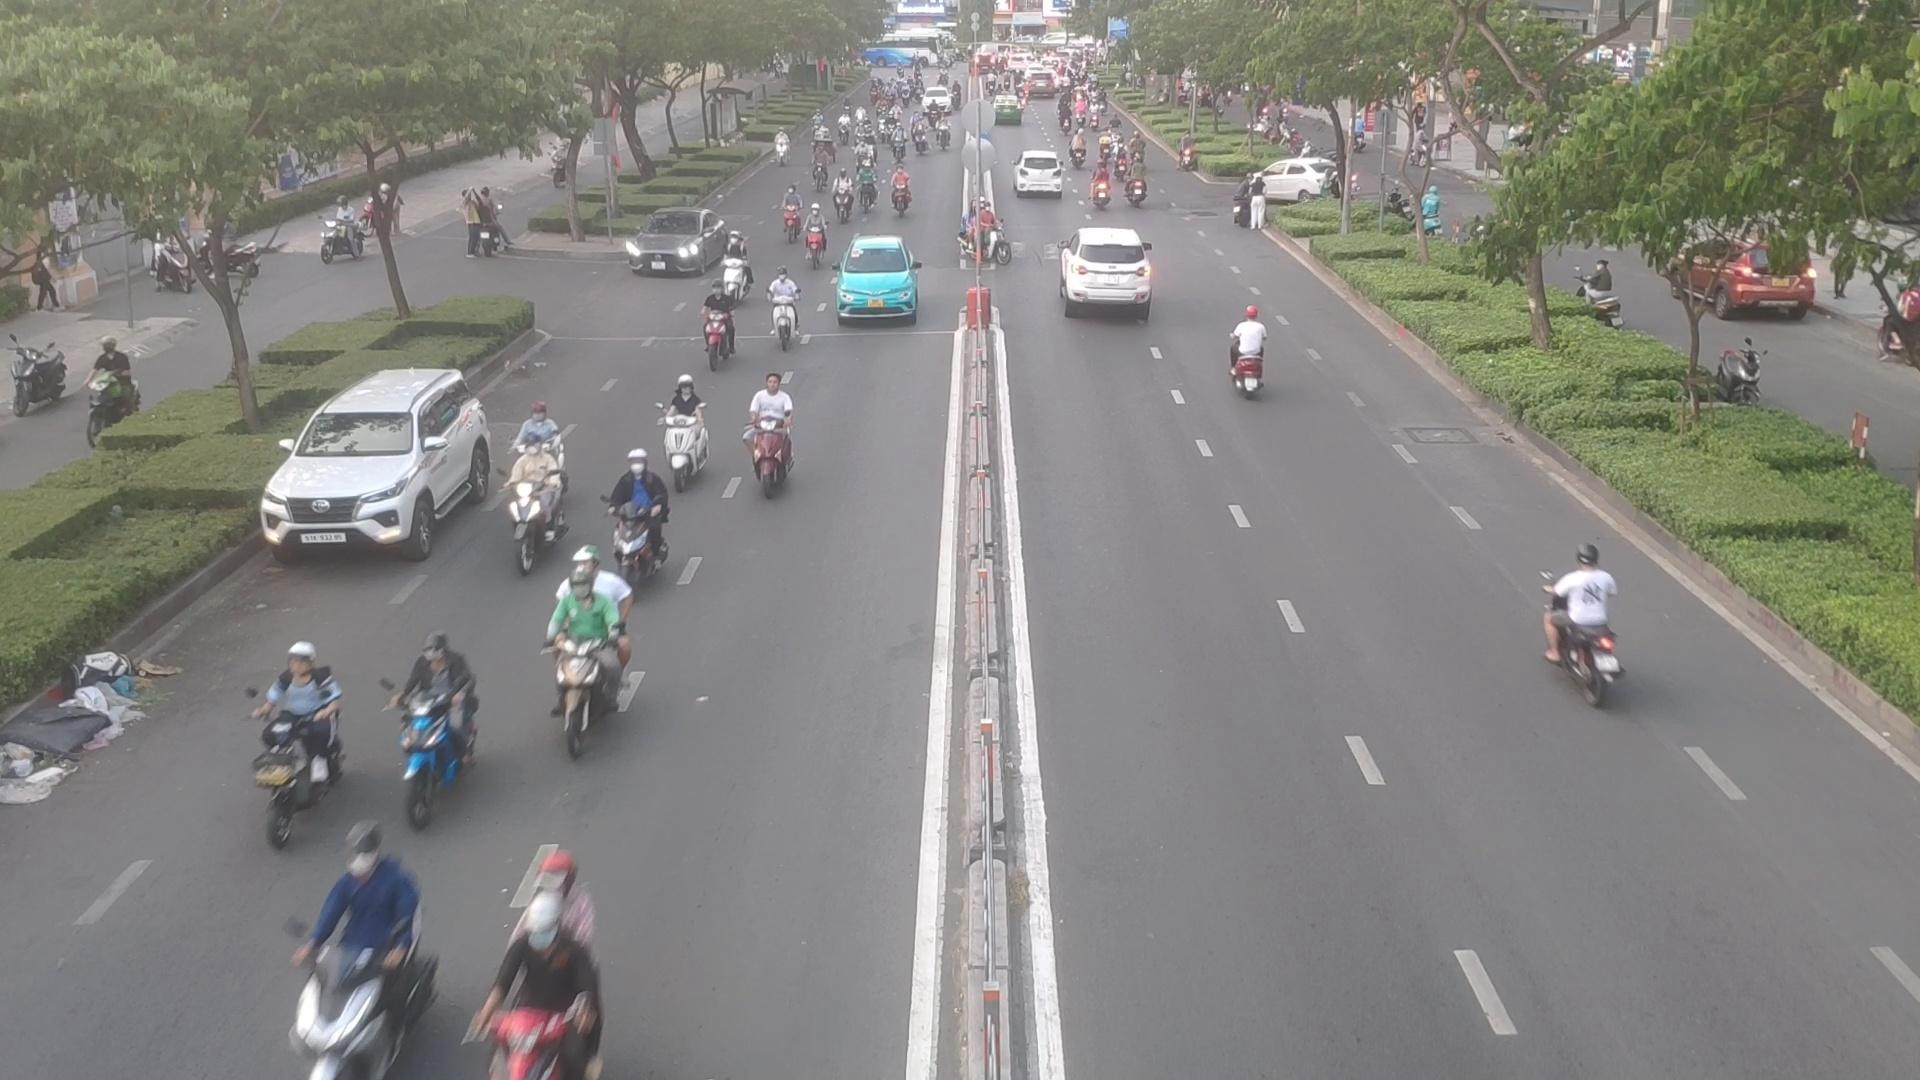car: (261, 369, 498, 567), (1058, 225, 1153, 316), (832, 236, 926, 324), (626, 211, 738, 280), (1247, 158, 1337, 204), (1011, 152, 1068, 193)
motorbike: (498, 833, 644, 1080), (301, 831, 443, 1080), (549, 556, 636, 771), (386, 636, 481, 831), (251, 654, 334, 847), (1535, 545, 1615, 698), (646, 380, 721, 492), (609, 433, 663, 583), (516, 429, 556, 582), (746, 372, 796, 485), (1224, 297, 1271, 401), (698, 280, 740, 369), (957, 208, 1010, 272), (716, 225, 752, 305), (767, 264, 796, 349), (771, 182, 803, 245), (889, 166, 916, 218), (1125, 158, 1149, 207), (1089, 161, 1112, 208), (808, 206, 827, 260), (858, 167, 878, 215), (833, 173, 851, 225), (810, 148, 829, 193), (770, 127, 794, 162), (1112, 140, 1127, 178), (853, 142, 870, 175), (893, 127, 906, 162)
